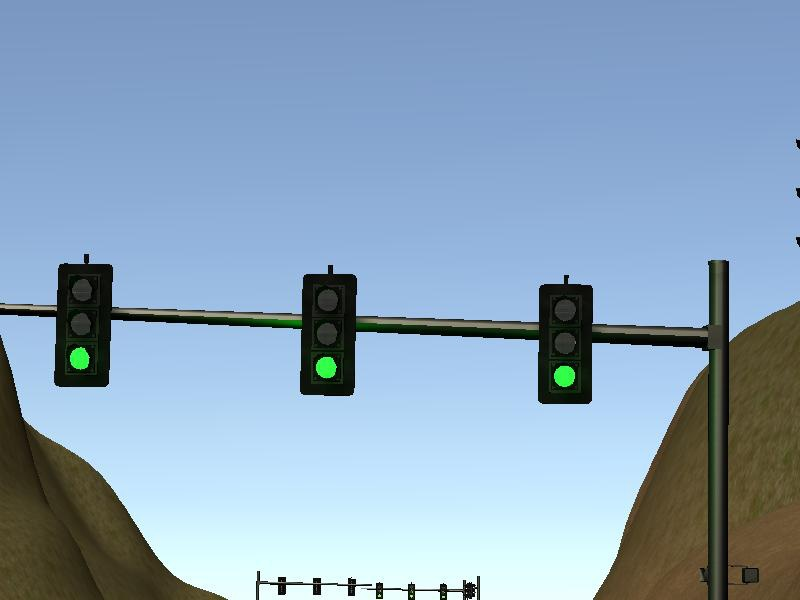Green: (295, 272, 358, 398), (51, 263, 114, 389), (536, 283, 595, 407), (373, 581, 387, 600), (406, 581, 417, 600), (438, 581, 449, 600)
